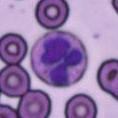N: (29, 30, 88, 87)
